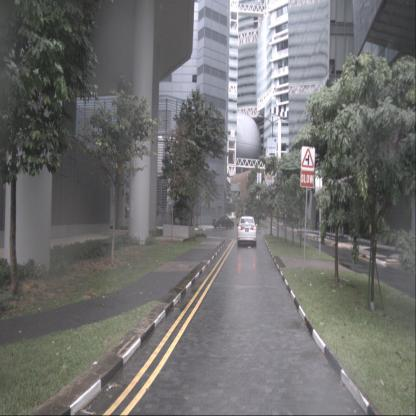vehicle-car: (238, 216, 256, 245), (212, 215, 235, 229)
